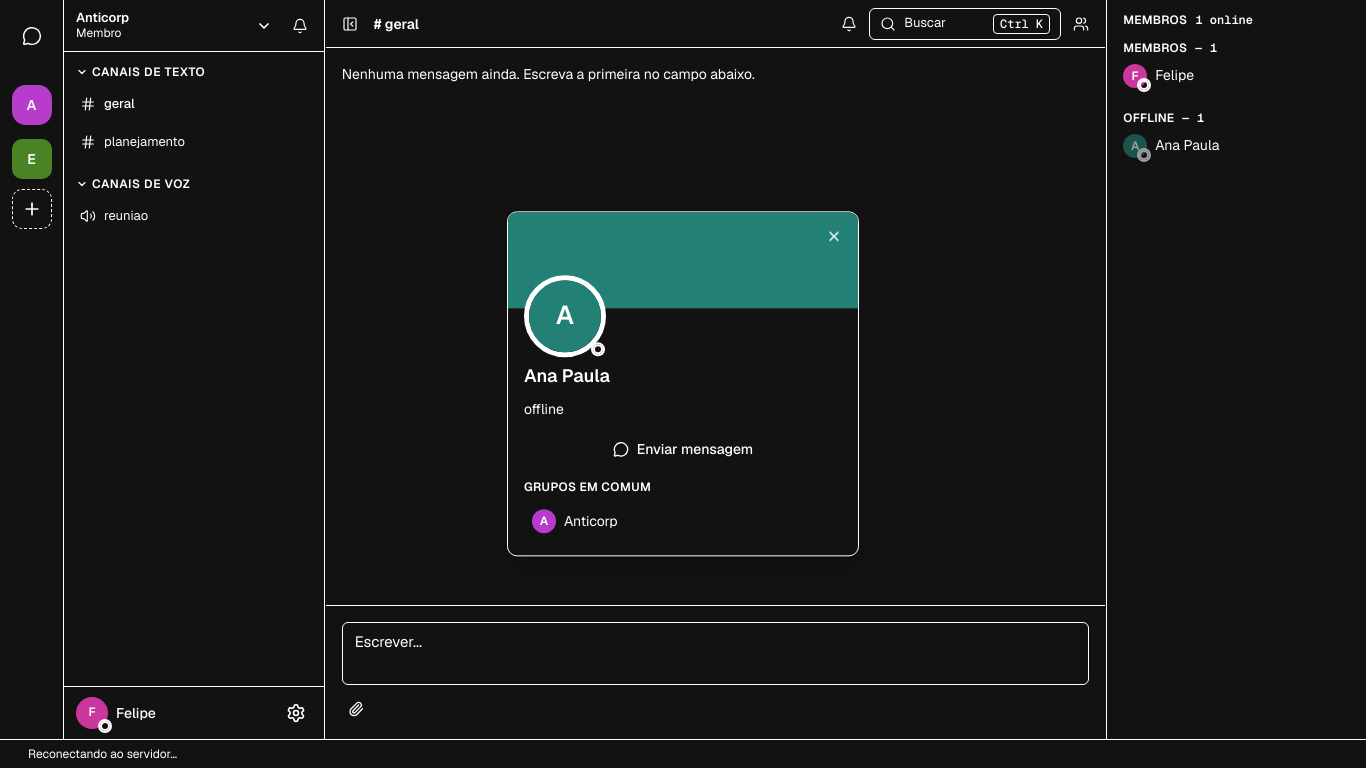
Scenario: paleta de comandos › diz quando não achou, em vez de mostrar uma lista vazia
The width and height of the screenshot is (1366, 768).
Type keys "{Control>}k{/Control}"
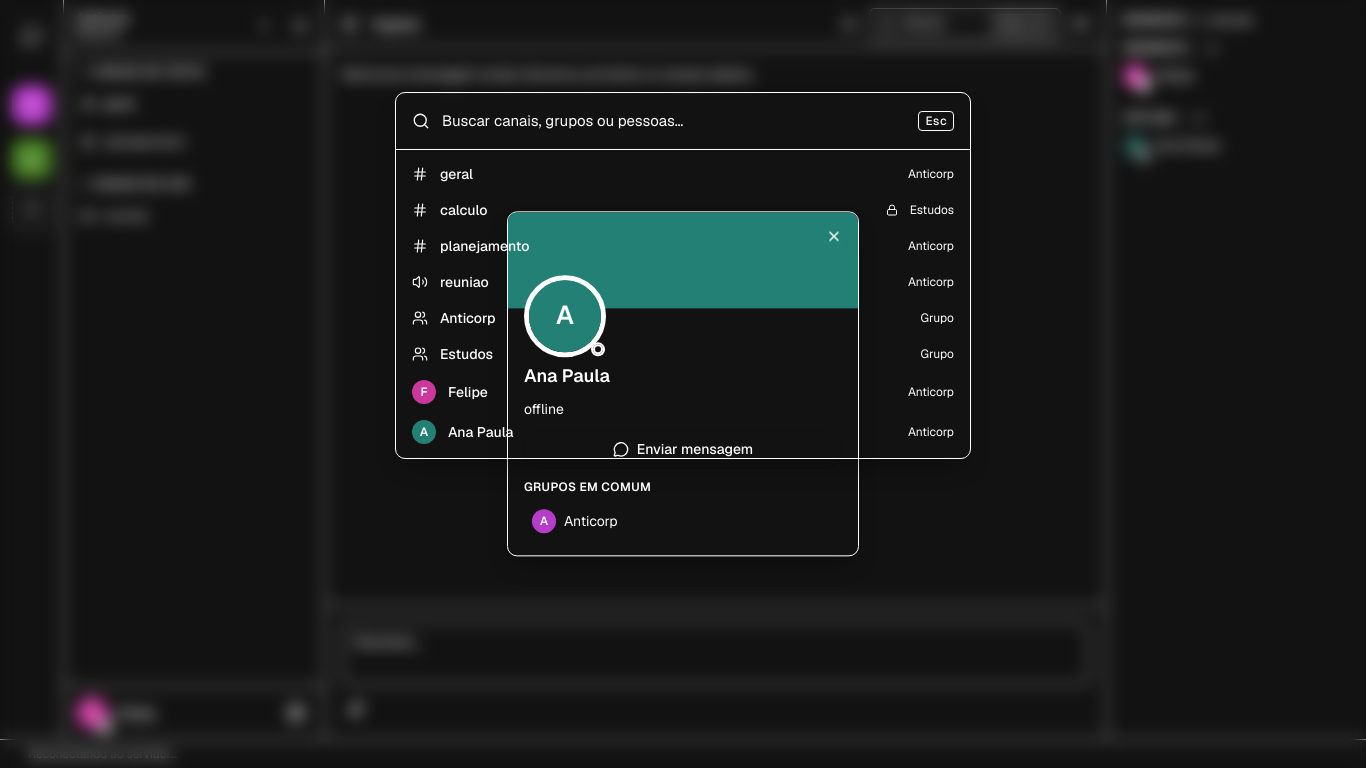
Type "zzzzz" into the dropdown labelled "Buscar canais, grupos ou pessoas" at [674, 121], box [442,93,906,149]
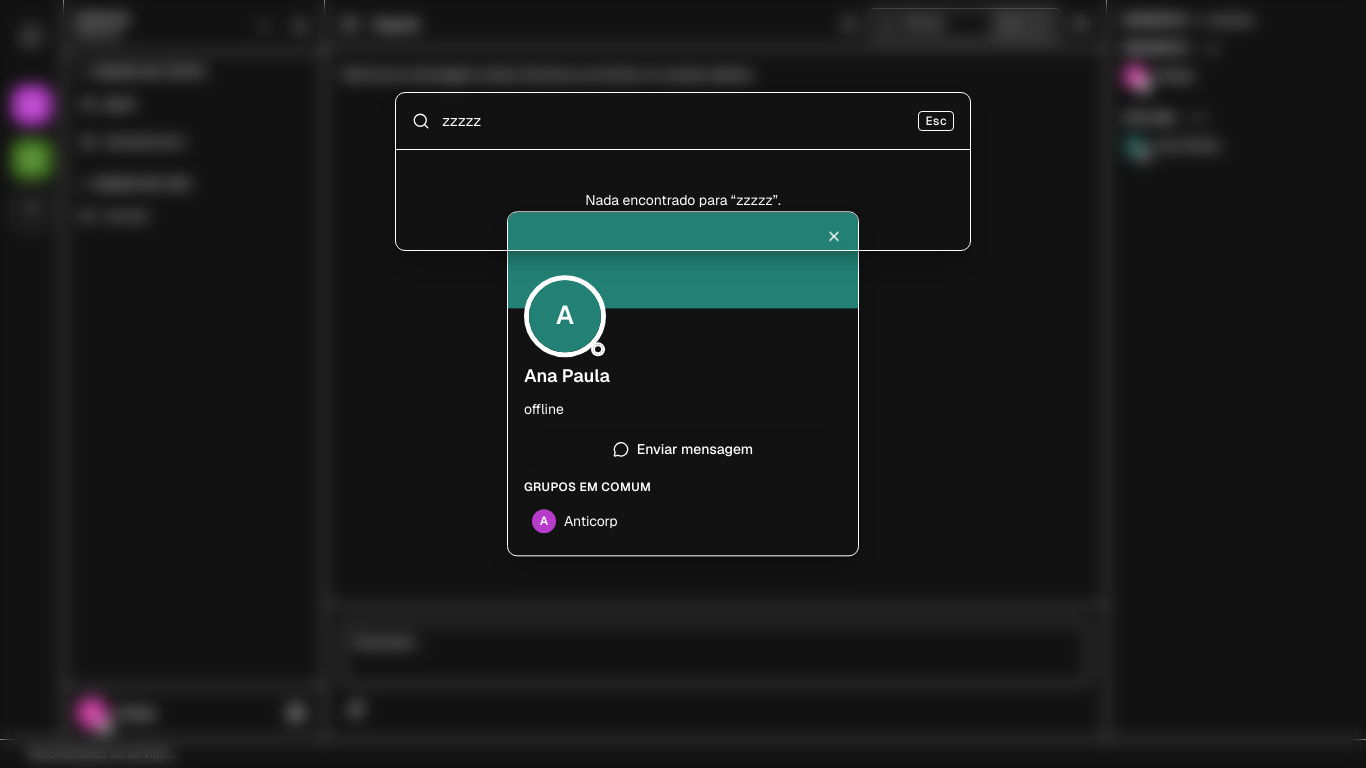
Expected: the text "Nada encontrado para “zzzzz”." is shown, [585,191,781,209]
